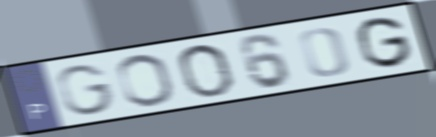0: (298, 25, 352, 78)
6: (238, 32, 293, 92)
G: (53, 63, 118, 118), (355, 14, 415, 71)
O: (115, 52, 179, 109), (174, 41, 236, 99)
